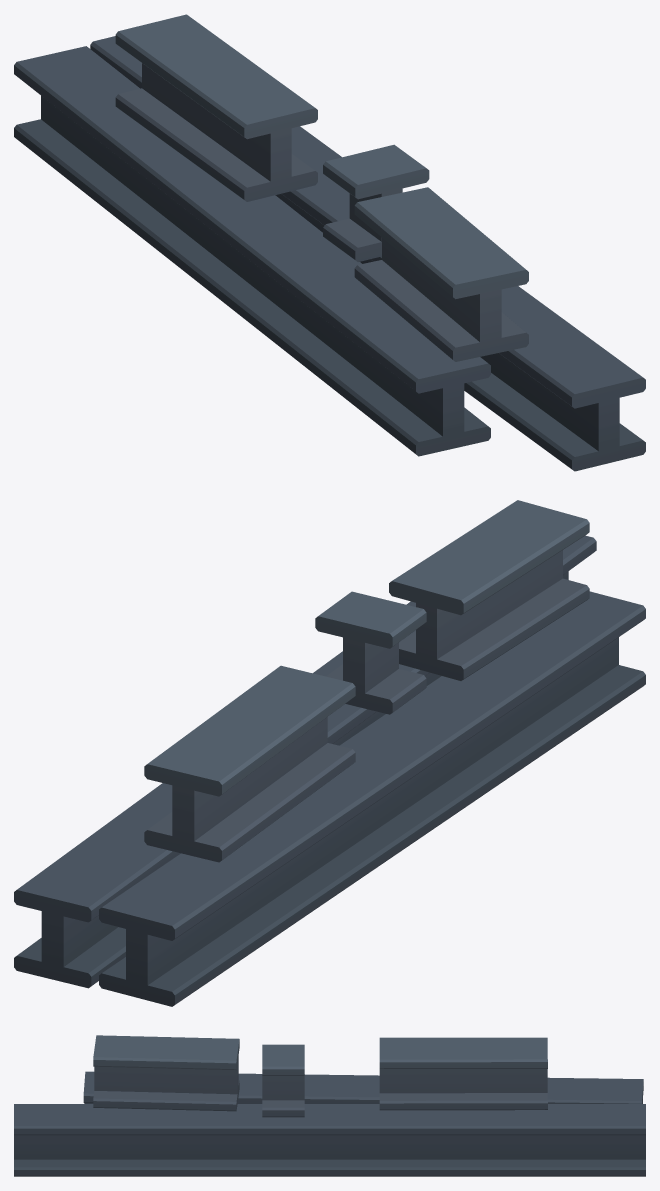
Rendered from Rails_C_4_4.fbx.
The picture shows the model from 3 angles, top to bottom: view 1: azimuth 30°, elevation 25°; view 2: azimuth 150°, elevation 25°; view 3: azimuth 270°, elevation 25°; orthographic projection. The views are drawn at different scales.
Parts seen in each view (by area): view 1: Rails_C_4_4; view 2: Rails_C_4_4; view 3: Rails_C_4_4.
Boxes of the visible parts, <box> form: Rails_C_4_4: <box>14,14,645,471</box>; Rails_C_4_4: <box>14,500,645,1006</box>; Rails_C_4_4: <box>14,1035,645,1176</box>.
Size of the model in its own units: 88.98 by 74.86 by 423.
